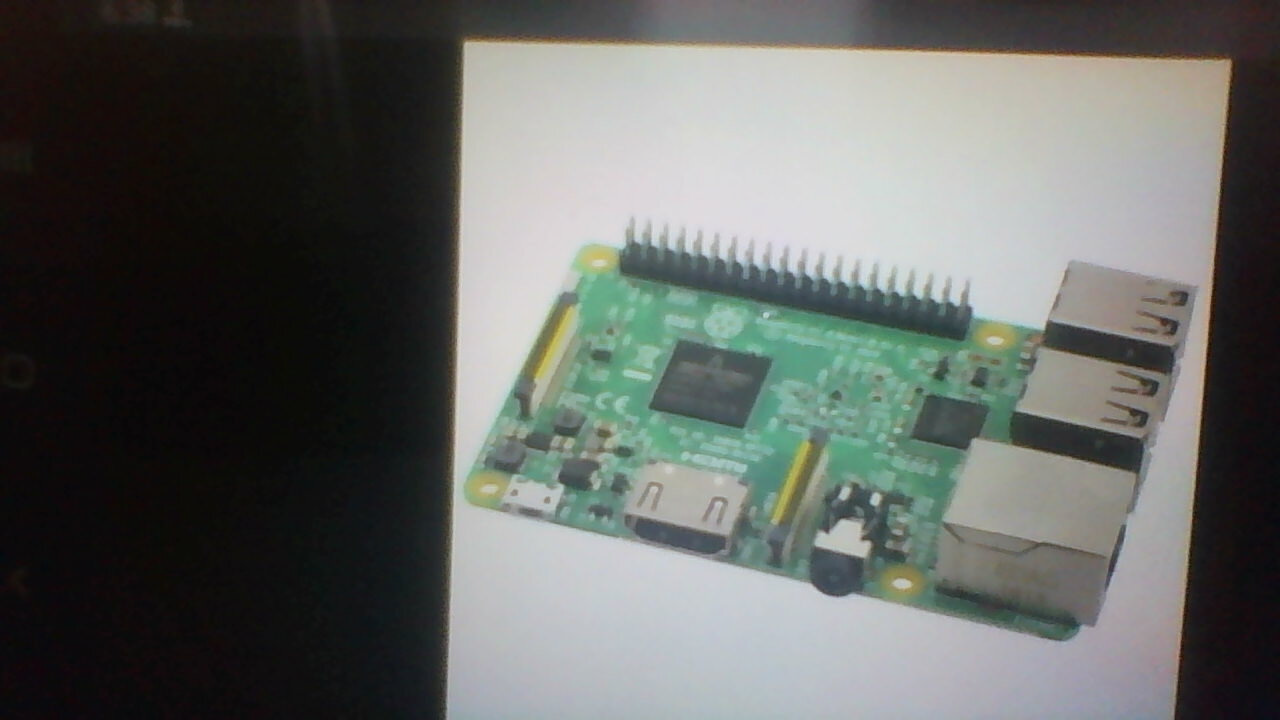aud: (817, 476, 894, 608)
eth: (944, 442, 1132, 609)
usb: (1024, 349, 1174, 453), (1047, 254, 1199, 351)
